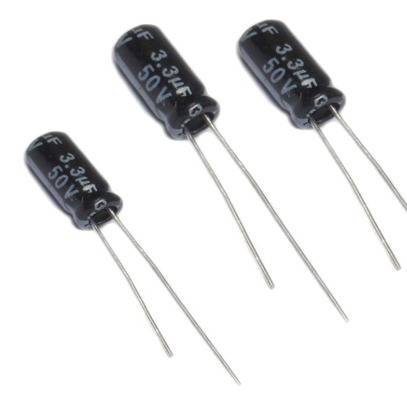Capacitor: (111, 24, 221, 141), (236, 19, 346, 130), (24, 131, 122, 231)
